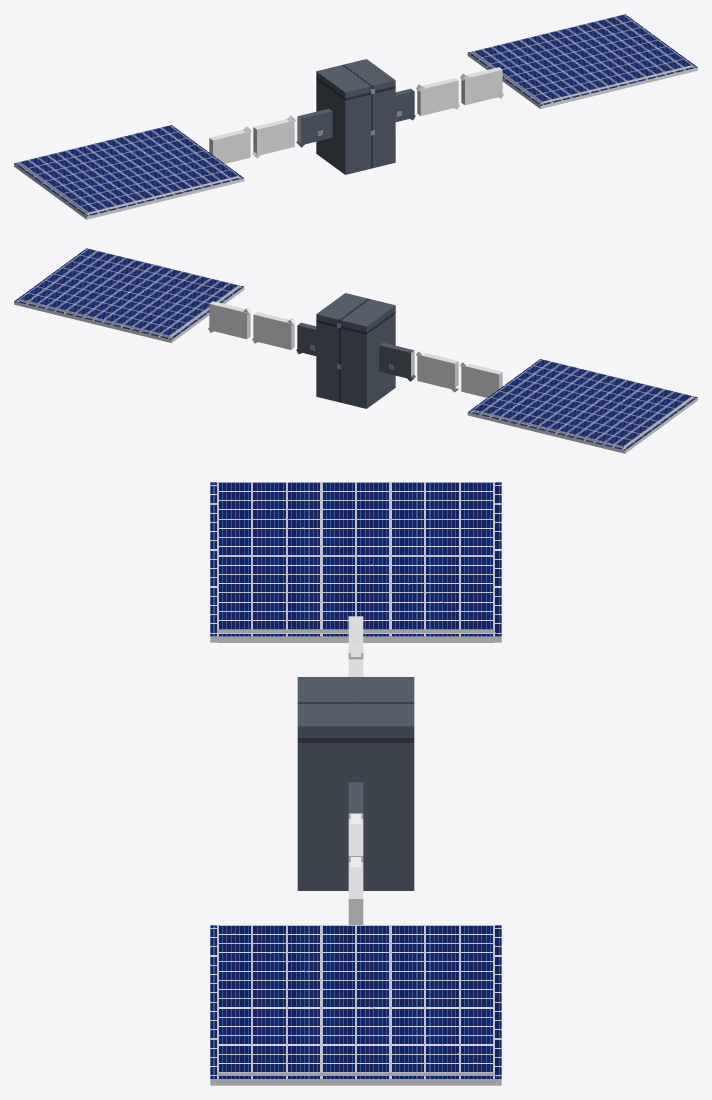
The model's file is solar_xl.glb.
3 views of the same model, one above another, from view 1: azimuth 30°, elevation 25°; view 2: azimuth 150°, elevation 25°; view 3: azimuth 270°, elevation 25° (orthographic). The views are drawn at different scales.
Parts seen in each view (by area): view 1: solar_xl; view 2: solar_xl; view 3: solar_xl.
Boxes of the visible parts, x1,y1,x2,y2 form: solar_xl: (14,14,697,219); solar_xl: (14,248,697,453); solar_xl: (210,482,501,1085).
Size of the model in its own units: 1.94 by 0.25 by 0.4.
Materials: 3 (2 with a texture image).
